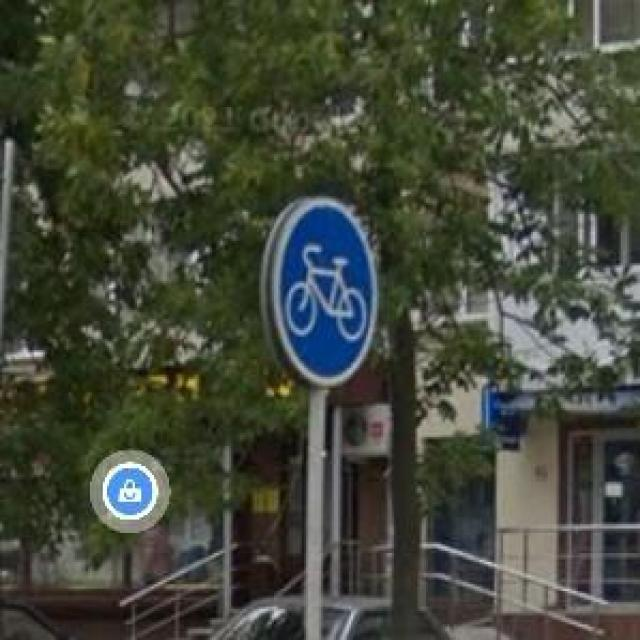bicycle: (267, 196, 379, 388)
